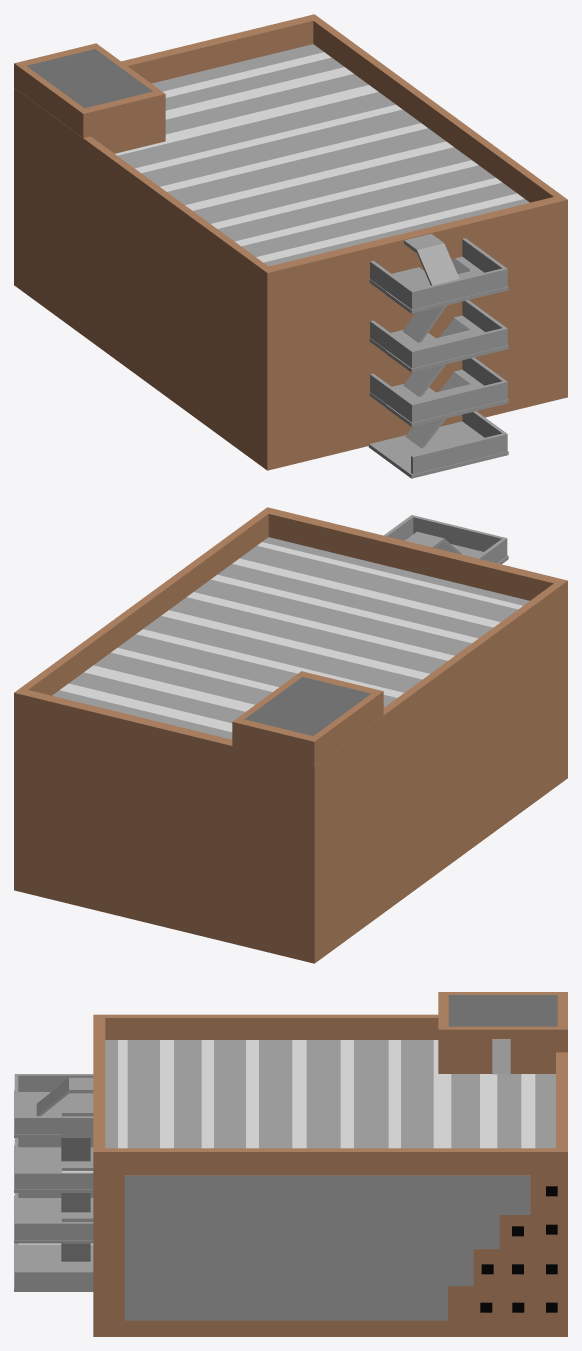
Rendered from GARAGE.fbx.
3 renders of one model, top to bottom at view 1: azimuth 30°, elevation 25°; view 2: azimuth 150°, elevation 25°; view 3: azimuth 270°, elevation 25°, orthographic. The views are drawn at different scales.
Parts seen in each view (by area): view 1: pCube80; view 2: pCube80; view 3: pCube80.
Boxes of the visible parts, box(x1,y1,x2,y2) form: pCube80: box(14, 14, 567, 478); pCube80: box(14, 507, 567, 963); pCube80: box(14, 992, 567, 1336).
Size of the model in its own units: 117 by 83.36 by 198.
